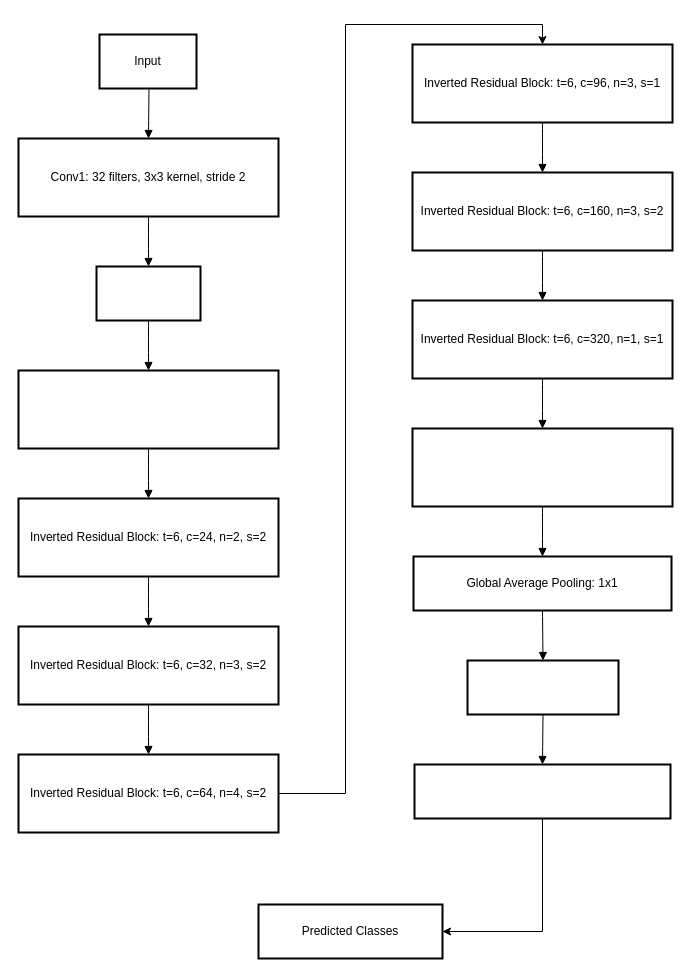
Image size: 690x977. Some labels were removed from this diagram. The centre of each missing label's shape, as x and y in pixels:
"Conv2: 1280 filters, 1x1 kernel, stride 1" goes at point (542, 467).
"Dropout: 0.2" goes at point (542, 687).
"Fully Connected" goes at point (542, 791).
"Inverted Residual Block: t=1, c=16, n=1, s=1" goes at point (148, 409).
"ReLU1" goes at point (148, 293).
